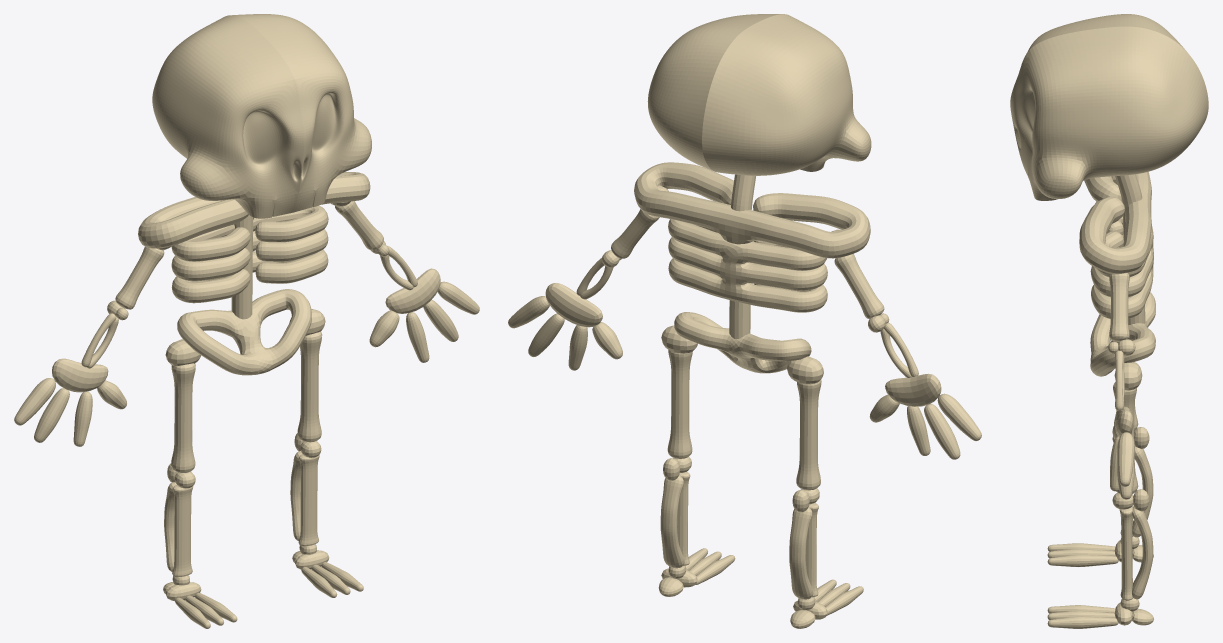
File: esqueleto original.fbx
The picture shows the model from 3 angles, left to right: view 1: azimuth 30°, elevation 25°; view 2: azimuth 150°, elevation 25°; view 3: azimuth 270°, elevation 25°; orthographic projection.
Parts seen in each view (by area): view 1: Body, head, maos e cotovelo, feet base, Bolinha da Bacia; view 2: Body, head, maos e cotovelo, feet base, Bolinha da Bacia, Knee; view 3: head, Body, feet base, maos e cotovelo, Knee, Bolinha da Bacia.
Part boxes in pixels (x1,y1,x2,y2): Body: [14, 172, 479, 628]; head: [152, 14, 371, 218]; maos e cotovelo: [52, 241, 440, 392]; feet base: [163, 544, 329, 601]; Bolinha da Bacia: [165, 309, 325, 366]; Body: [508, 162, 981, 615]; head: [647, 14, 871, 175]; maos e cotovelo: [545, 250, 941, 406]; feet base: [658, 565, 827, 628]; Bolinha da Bacia: [661, 325, 823, 384]; Knee: [663, 458, 809, 512]; head: [1010, 14, 1208, 200]; Body: [1047, 171, 1155, 628]; feet base: [1114, 536, 1153, 625]; maos e cotovelo: [1108, 339, 1135, 437]; Knee: [1133, 427, 1149, 511]; Bolinha da Bacia: [1114, 362, 1142, 390].
Size of the model in its own units: 556 by 646 by 205.
